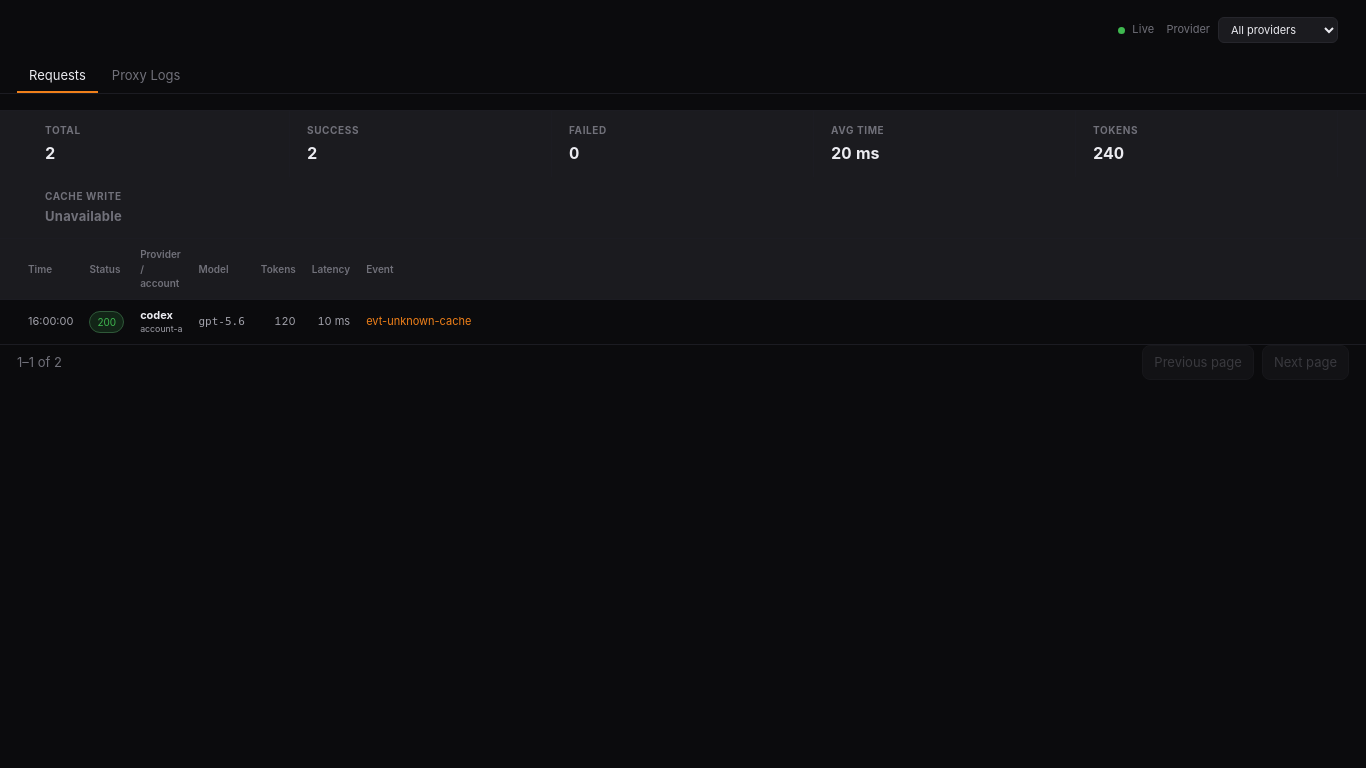
Test case: DurableLogs cache token availability › reports an unavailable cache write value in the request detail instead of a fake zero
Click the button with aria-label "view evt-unknown-cache details" at (419, 321), box [366,314,1338,330]
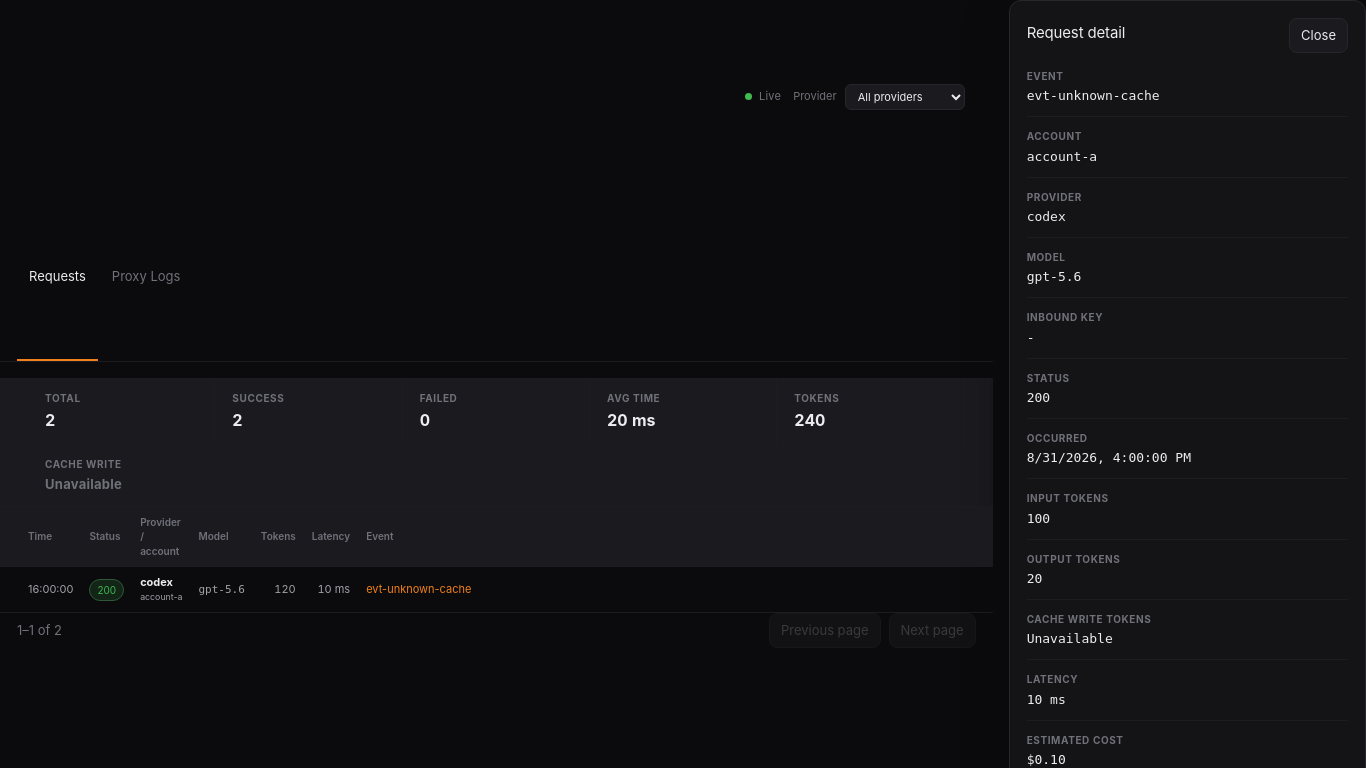
Now the text "Unavailable" below "Cache write tokens" is shown, box [1027,631,1113,646]
